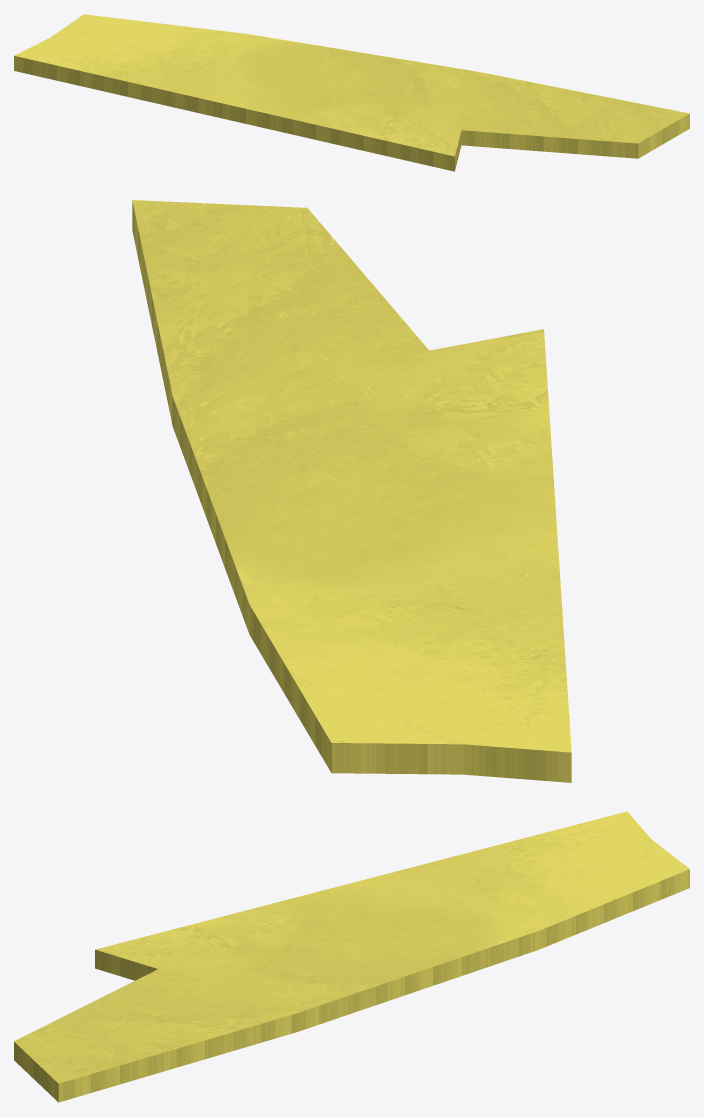
The model's file is jaune5.FBX.
3 views of the same model, one above another, from view 1: azimuth 30°, elevation 25°; view 2: azimuth 150°, elevation 25°; view 3: azimuth 270°, elevation 25° (orthographic). The views are drawn at different scales.
Visible parts, largest first — view 1: Ligne031; view 2: Ligne031; view 3: Ligne031.
Boxes of the visible parts, x1,y1,x2,y2 form: Ligne031: [14, 14, 689, 171]; Ligne031: [132, 200, 571, 782]; Ligne031: [14, 811, 689, 1102].
Size of the model in its own units: 22.62 by 0.7312 by 23.72.
Materials: 1 (1 with a texture image).
